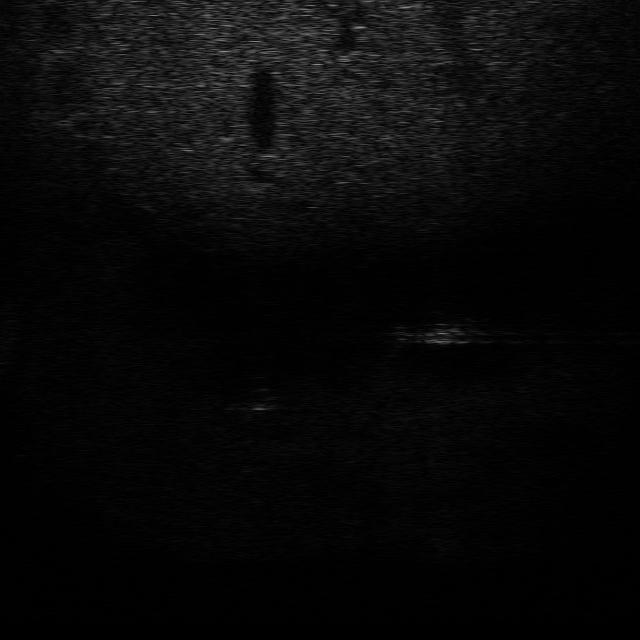ball: (228, 385, 284, 418)
human body: (392, 310, 488, 357)
